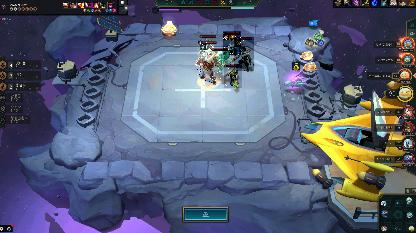1_gnar: (223, 31, 241, 55)
1_jax: (224, 64, 242, 88)
2_nasus: (234, 37, 254, 71)
2_volibear: (197, 41, 221, 85)
